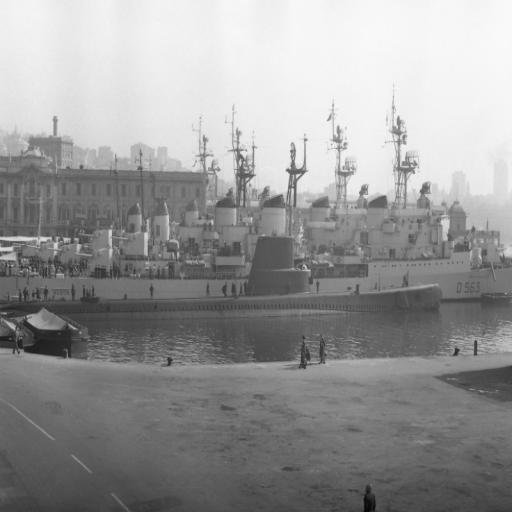submarine: (2, 236, 442, 310)
